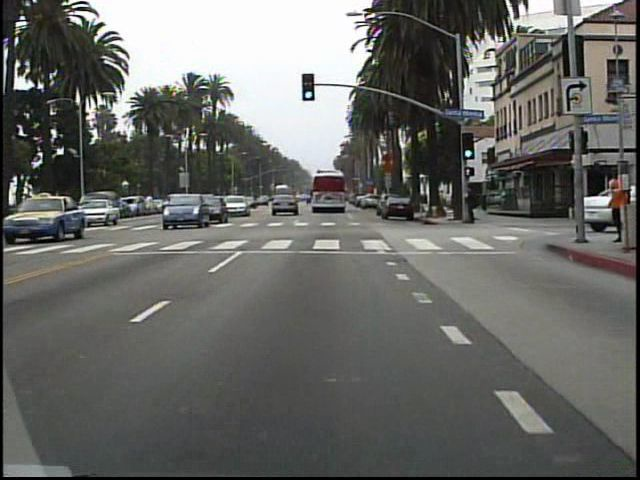person: (593, 163, 619, 245), (462, 181, 478, 228)
